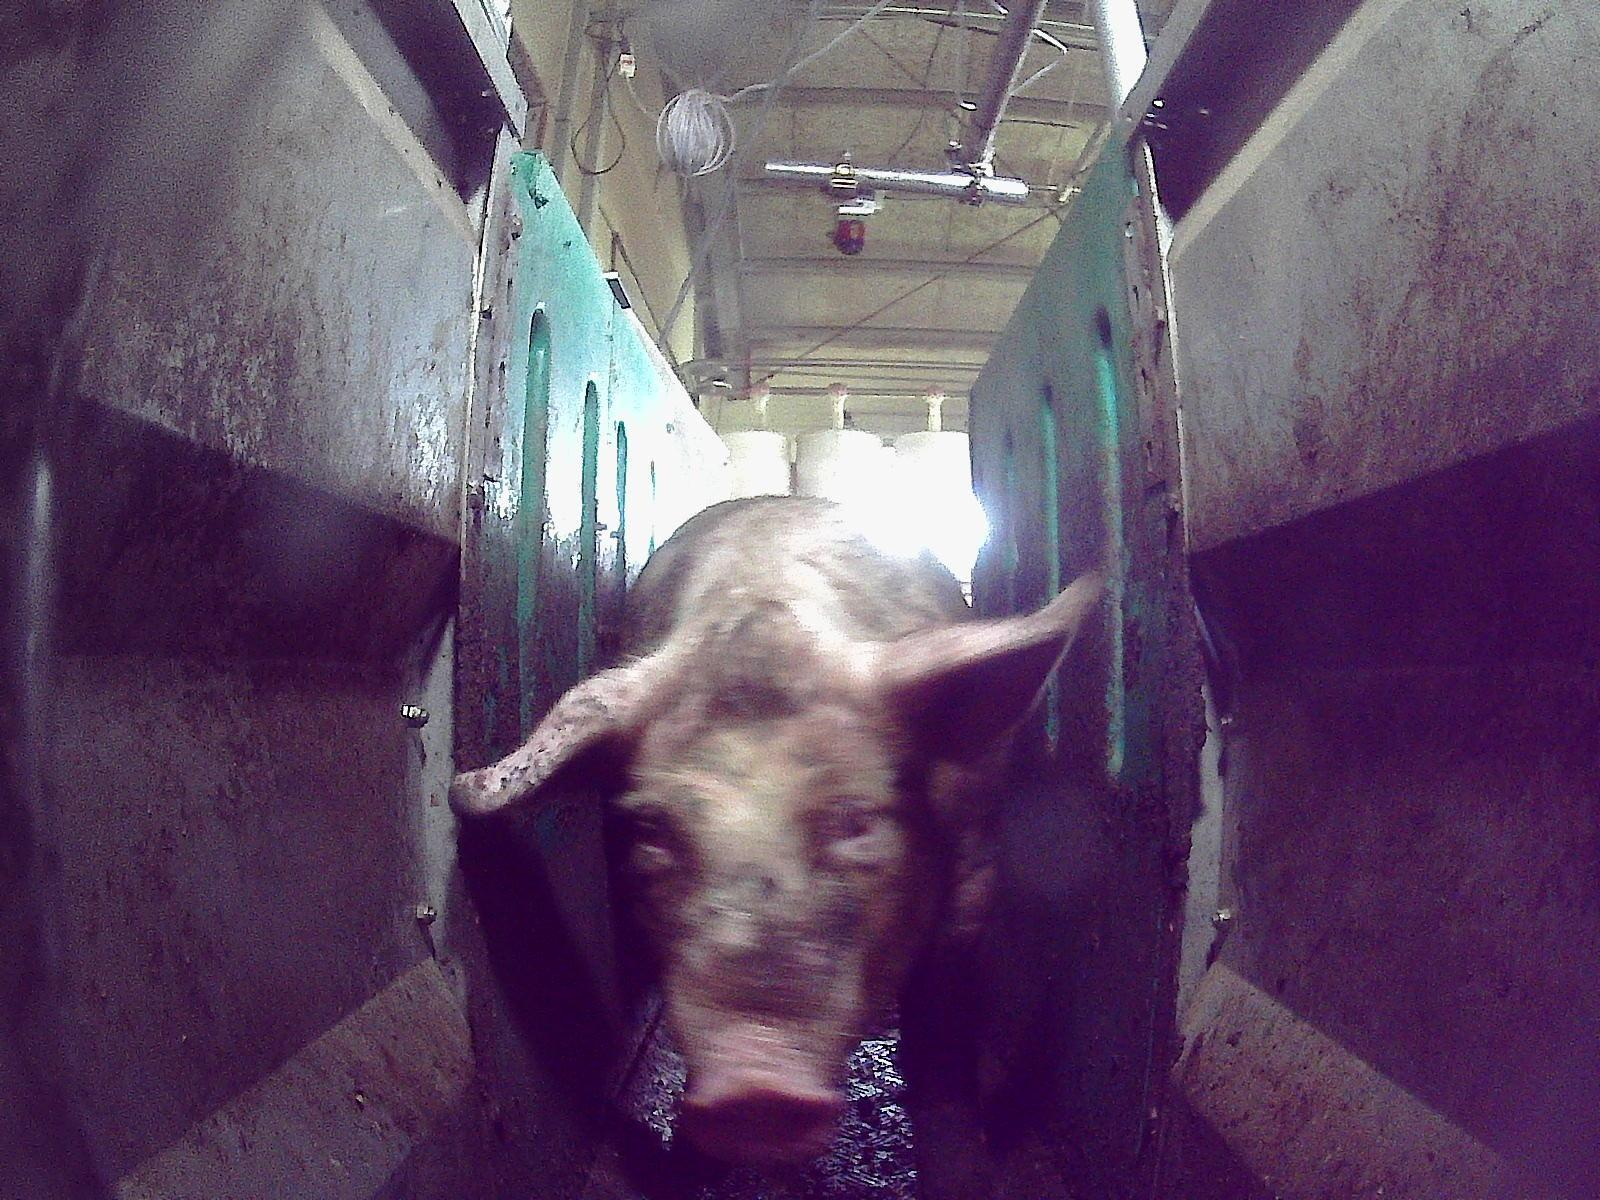Face: (621, 677, 933, 1167)
